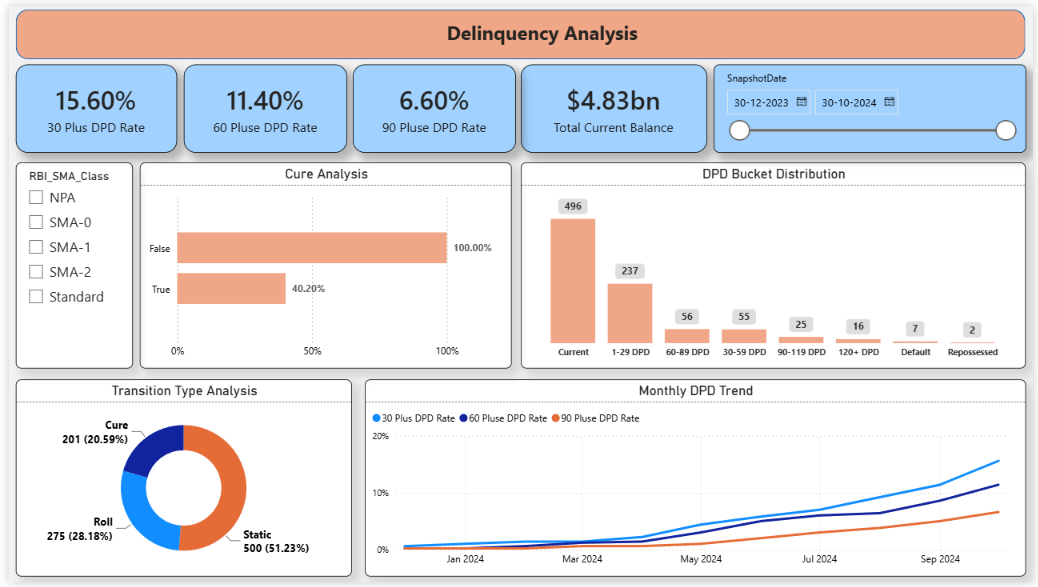

What the dashboard file says about the page in this screenshot:
{"tool":"powerbi","page":{"name":"Delinquency Analytics","canvas":[1280,720],"ordinal":2},"visuals":[{"type":"cardVisual","fields":{"Data":["dpd_snapshot_history.Total Current Balance"]},"box":[640,72.5,232.5,110],"z":0},{"type":"cardVisual","fields":{"Data":["dpd_snapshot_history.30 Plus DPD Rate"]},"box":[8.8,72.5,201.2,110],"z":1000},{"type":"cardVisual","fields":{"Data":["dpd_snapshot_history.60 Pluse DPD Rate"]},"box":[218.6,72.9,204.3,110],"z":2000},{"type":"cardVisual","fields":{"Data":["dpd_snapshot_history.90 Pluse DPD Rate"]},"box":[430,72.9,204.3,110],"z":3000},{"type":"lineChart","title":"Monthly DPD Trend","fields":{"Y":["dpd_snapshot_history.30 Plus DPD Rate","dpd_snapshot_history.60 Pluse DPD Rate","dpd_snapshot_history.90 Pluse DPD Rate"],"Category":["dpd_snapshot_history.SnapshotDate.Variation.Date Hierarchy.Year","dpd_snapshot_history.SnapshotDate.Variation.Date Hierarchy.Month"]},"box":[445,466.2,826.2,246.2],"z":4000},{"type":"columnChart","title":"DPD Bucket Distribution","fields":{"Category":["dpd_snapshot_history.DPD_Bucket"],"Y":["dpd_snapshot_history.Laon Count"]},"box":[640,195,631.2,257.5],"z":5000},{"type":"clusteredBarChart","title":"Cure Analysis","fields":{"Category":["dpd_snapshot_history.CureFlag"],"Y":["dpd_snapshot_history.Laon Count"]},"box":[163.8,195,465,257.5],"z":6000},{"type":"donutChart","title":"Transition Type Analysis","fields":{"Category":["dpd_snapshot_history.TransitionType"],"Y":["dpd_snapshot_history.Laon Count"]},"box":[8.8,466.2,420,246.2],"z":7000},{"type":"slicer","fields":{"Values":["dpd_snapshot_history.SnapshotDate"]},"box":[881.2,72.5,390,110],"z":8000},{"type":"slicer","fields":{"Values":["dpd_snapshot_history.RBI_SMA_Class"]},"box":[8.8,195,146.2,257.5],"z":9000},{"type":"shape","box":[8.6,3.7,1262,62.4],"z":10000},{"type":"textbox","box":[498.6,11.4,335.7,45.7],"z":11000}]}

Visuals, with their boxes in screenshot pixels (x1, y1, x2, y2), scaled from the page's 1280x720 canvas onto the 1038x587 screenshot:
cardVisual - dpd_snapshot_history.Total Current Balance: bbox(519, 59, 708, 149)
cardVisual - dpd_snapshot_history.30 Plus DPD Rate: bbox(7, 59, 170, 149)
cardVisual - dpd_snapshot_history.60 Pluse DPD Rate: bbox(177, 59, 343, 149)
cardVisual - dpd_snapshot_history.90 Pluse DPD Rate: bbox(349, 59, 514, 149)
"Monthly DPD Trend" lineChart: bbox(361, 380, 1031, 581)
"DPD Bucket Distribution" columnChart: bbox(519, 159, 1031, 369)
"Cure Analysis" clusteredBarChart: bbox(133, 159, 510, 369)
"Transition Type Analysis" donutChart: bbox(7, 380, 348, 581)
slicer - dpd_snapshot_history.SnapshotDate: bbox(715, 59, 1031, 149)
slicer - dpd_snapshot_history.RBI_SMA_Class: bbox(7, 159, 126, 369)
shape: bbox(7, 3, 1030, 54)
textbox: bbox(404, 9, 677, 47)
